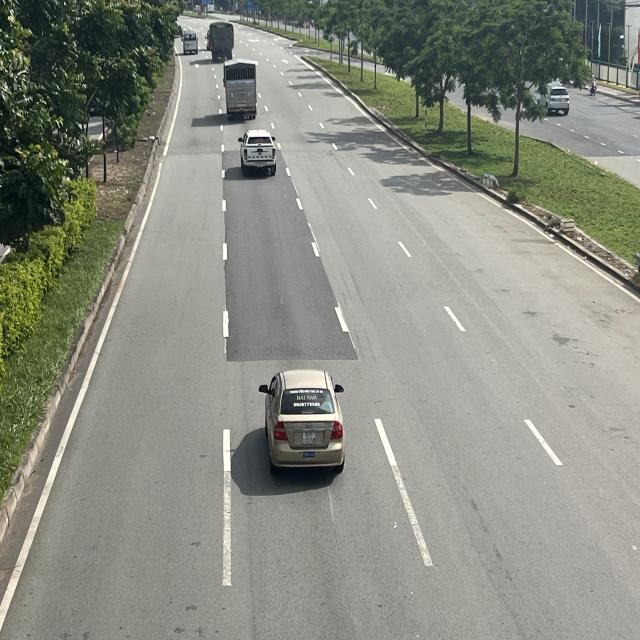car: (258, 369, 344, 476), (240, 129, 280, 172), (546, 85, 572, 117)
truck: (225, 60, 259, 117), (207, 23, 234, 61)
van: (182, 29, 198, 54)
